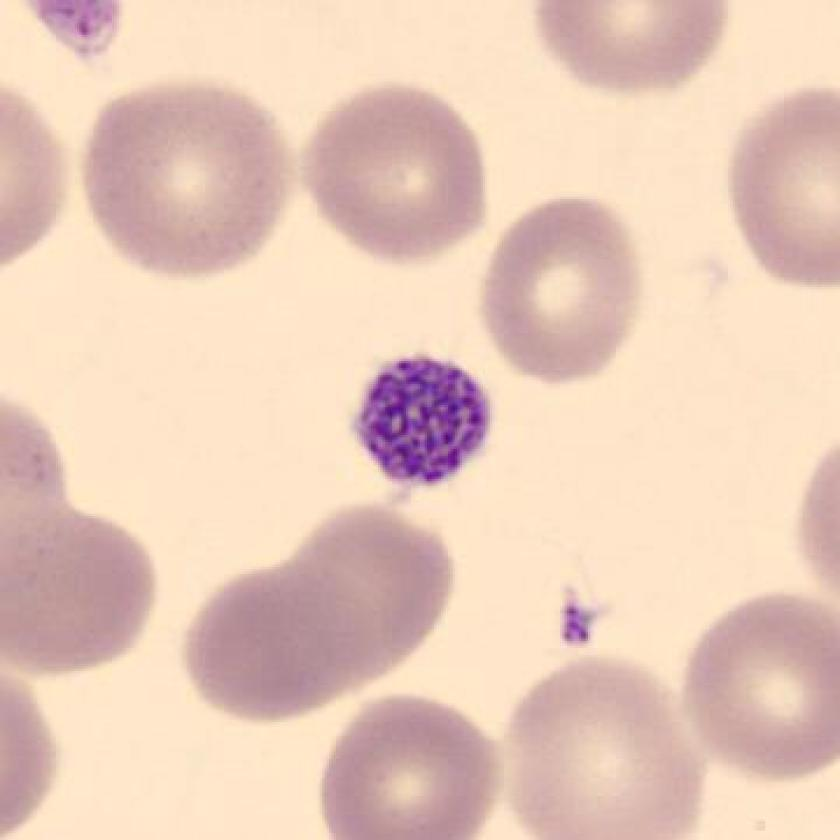platelets: (344, 344, 500, 496), (547, 580, 612, 665), (34, 1, 129, 59)
